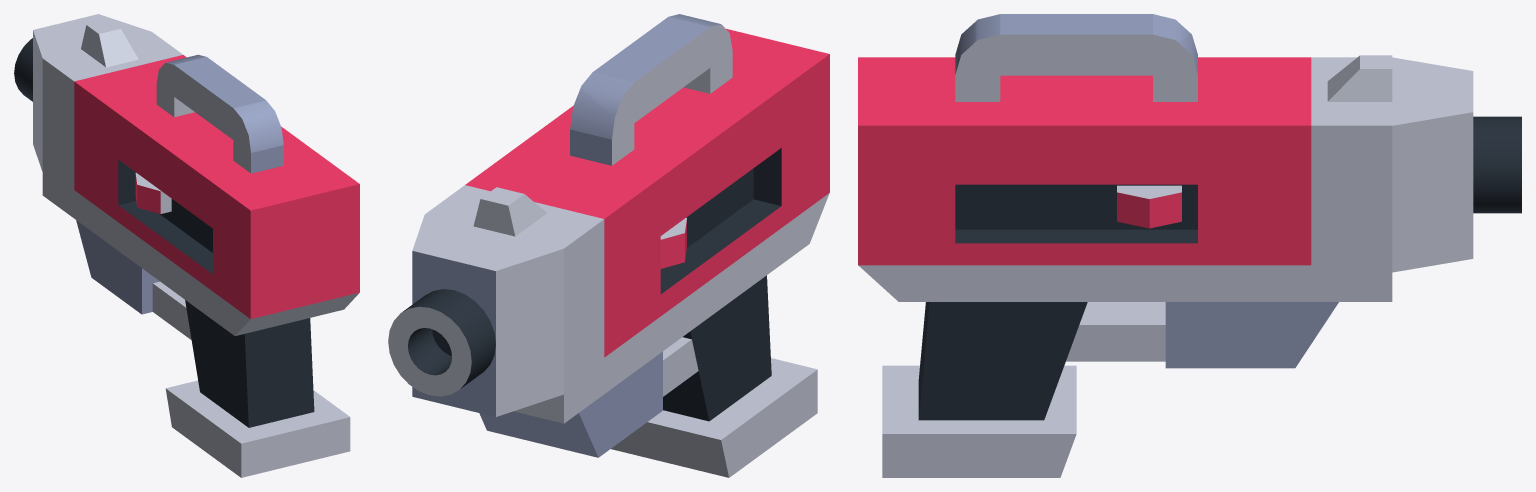
File: blasterB.obj
3 views of the same model, side by side, from view 1: azimuth 30°, elevation 25°; view 2: azimuth 150°, elevation 25°; view 3: azimuth 270°, elevation 25° (orthographic). The views are drawn at different scales.
Parts seen in each view (by area): view 1: blasterB; view 2: blasterB; view 3: blasterB.
Part boxes in pixels (left/top/right/bottom): blasterB: left=14, top=14, right=359, bottom=477; blasterB: left=388, top=14, right=829, bottom=477; blasterB: left=858, top=14, right=1521, bottom=477.
Size of the model in its own units: 0.1 by 0.2859 by 0.41.
